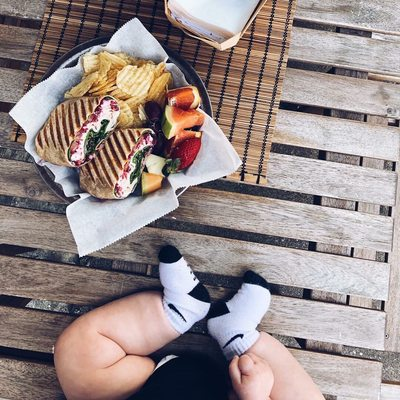burger: (16, 84, 399, 398)
